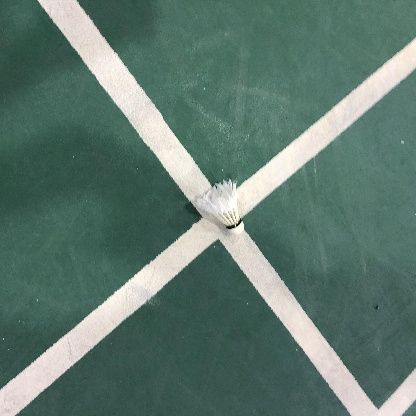ball_single: (196, 178, 244, 235)
